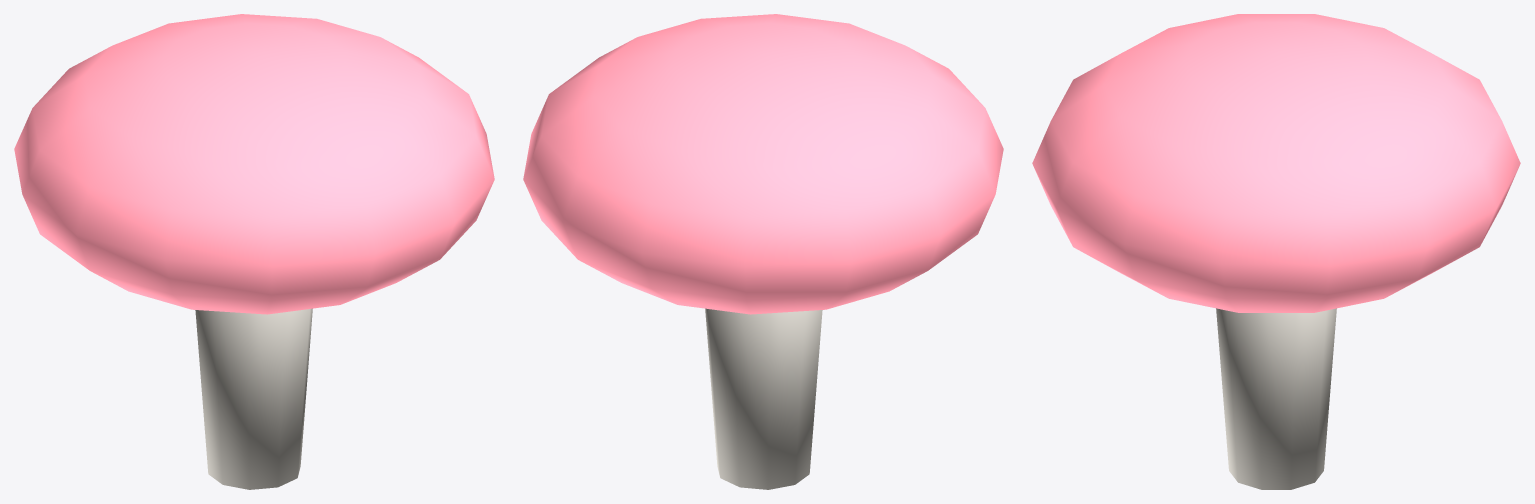
File: mushroom-toadstool.glb
3 views of the same model, side by side, from view 1: azimuth 30°, elevation 25°; view 2: azimuth 150°, elevation 25°; view 3: azimuth 270°, elevation 25° (orthographic).
Parts seen in each view (by area): view 1: Mush1_Cap, Mush1_Stem; view 2: Mush1_Cap, Mush1_Stem; view 3: Mush1_Cap, Mush1_Stem.
Part boxes in pixels (x1,y1,x2,y2): Mush1_Cap: [14, 14, 494, 314]; Mush1_Stem: [195, 308, 312, 489]; Mush1_Cap: [523, 14, 1003, 314]; Mush1_Stem: [705, 308, 822, 489]; Mush1_Cap: [1032, 14, 1520, 312]; Mush1_Stem: [1216, 308, 1336, 489].
Size of the model in its own units: 0.4212 by 0.408 by 0.432.
